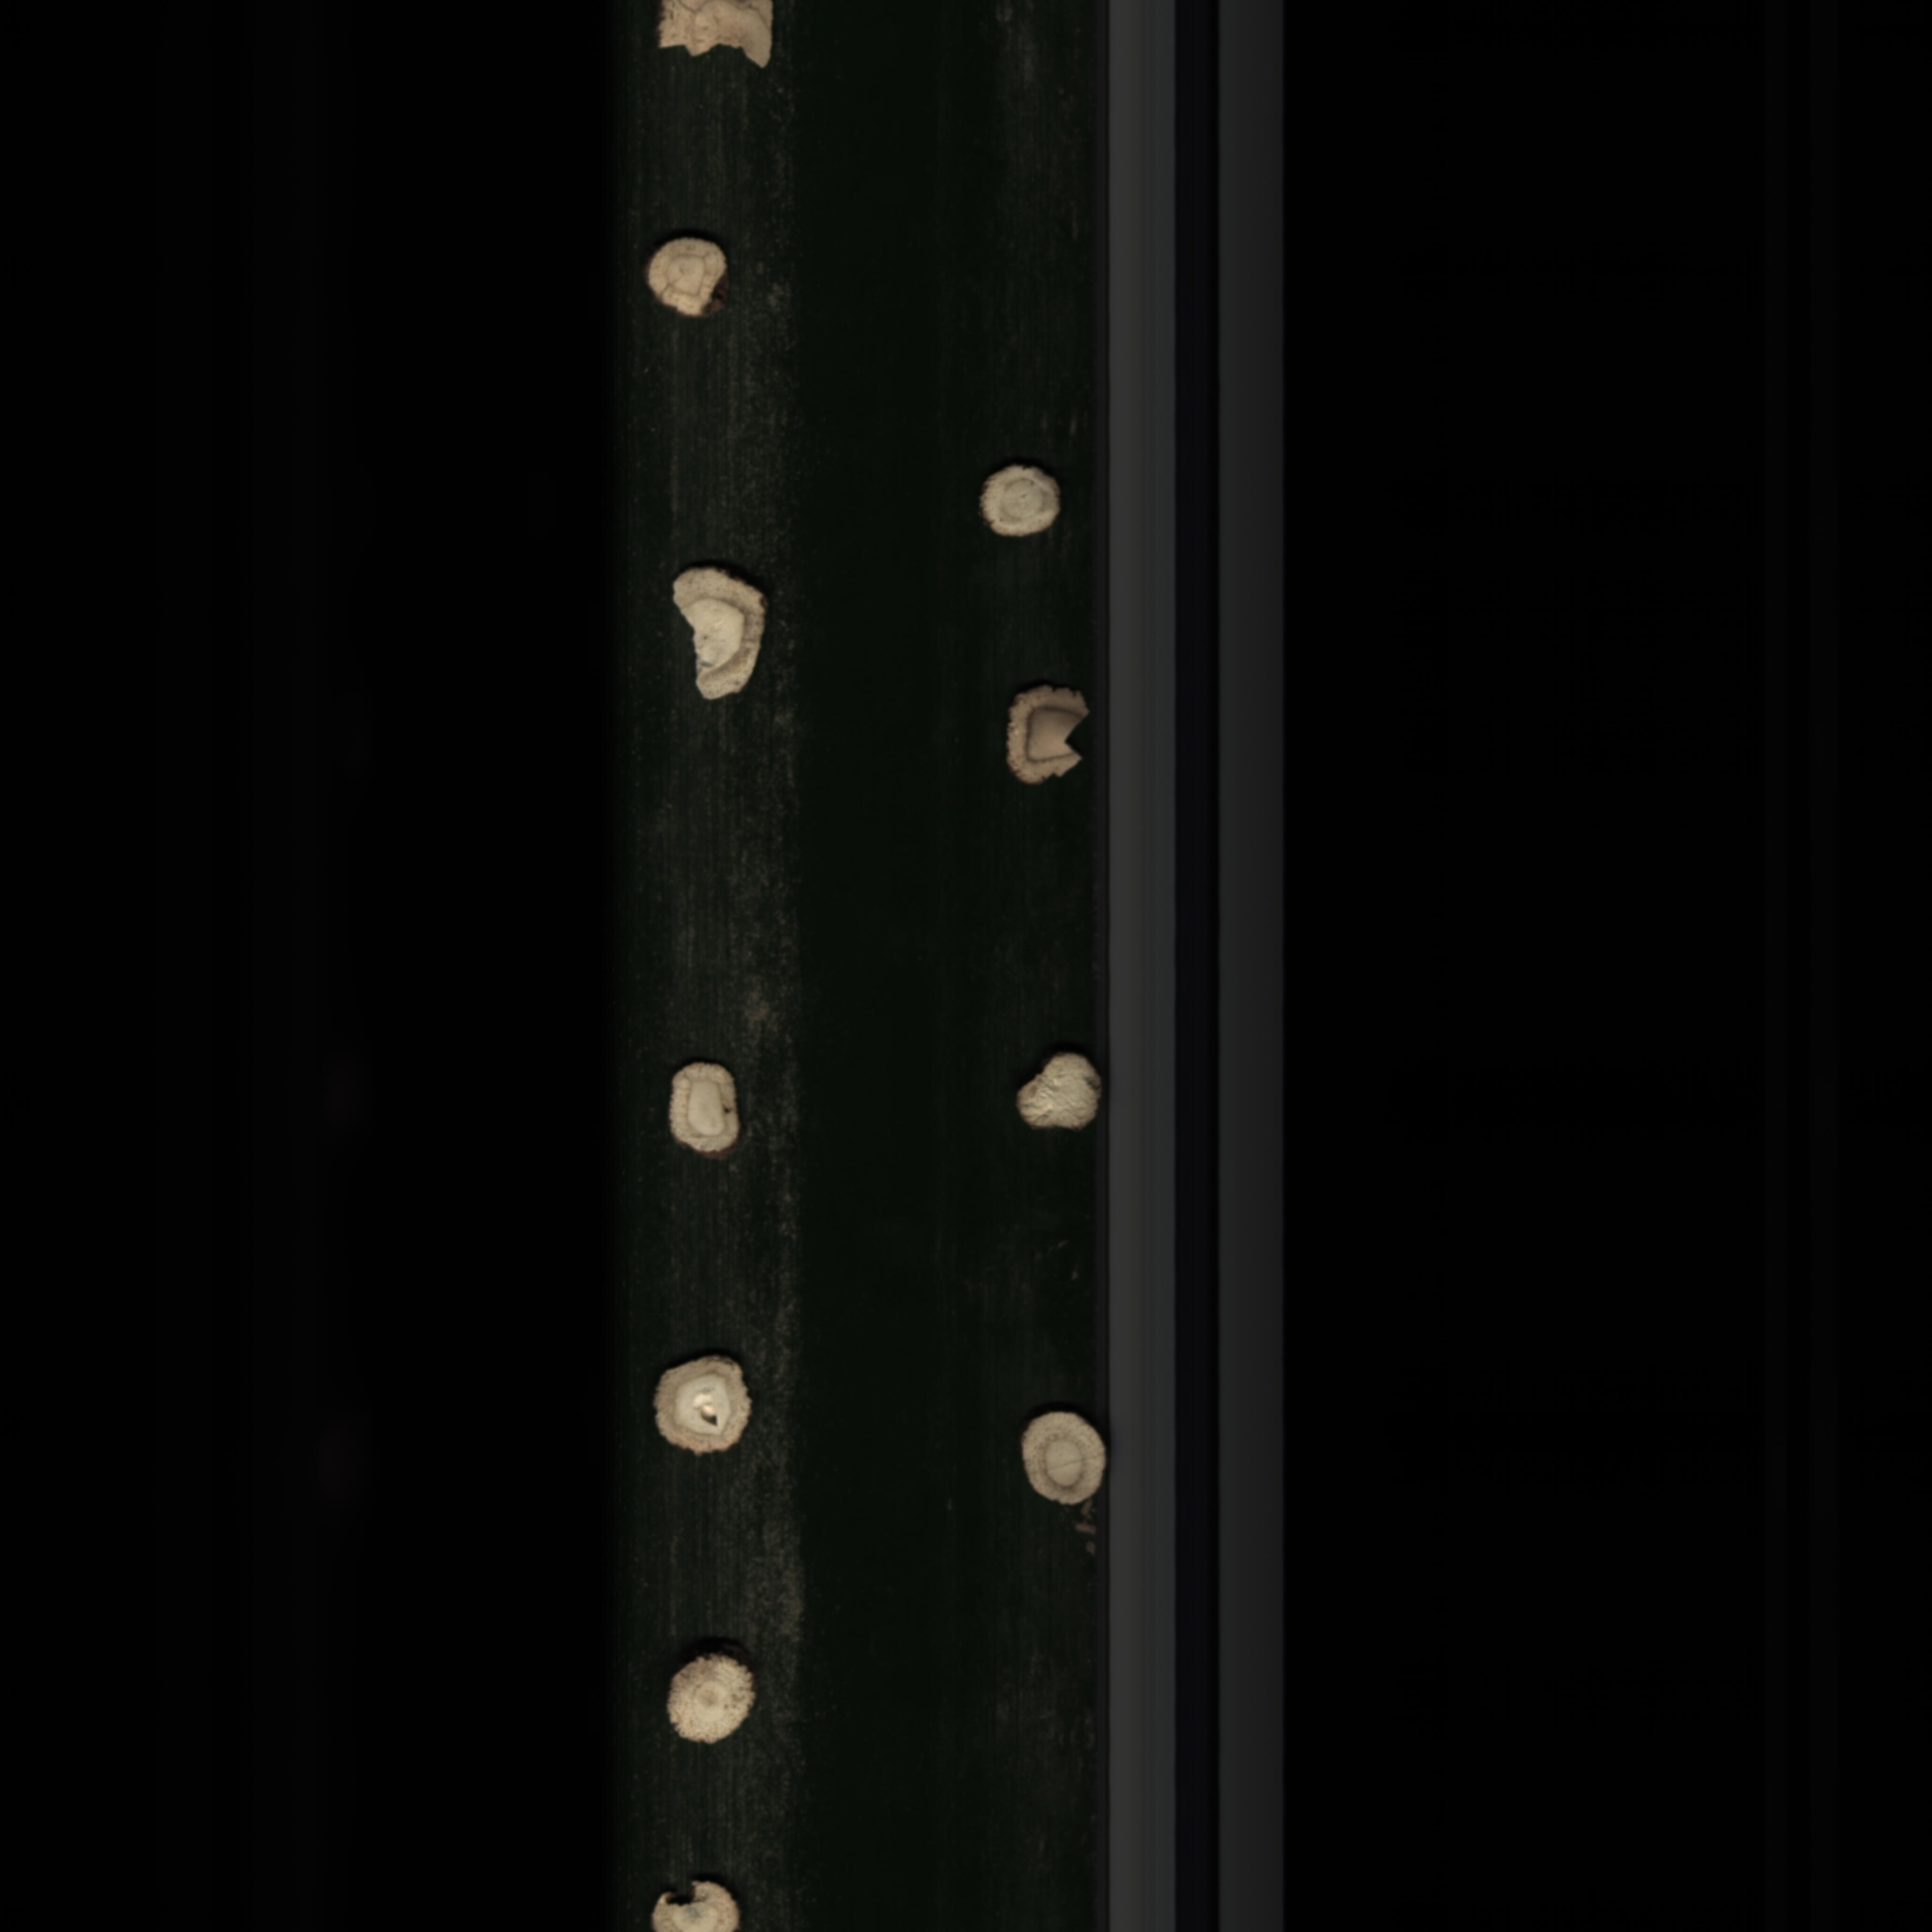bark: (616, 4, 805, 108)
debris: (658, 559, 780, 717), (633, 1881, 754, 1932)
hole: (646, 1350, 763, 1474)
moldy: (996, 676, 1099, 810), (640, 228, 736, 327)
